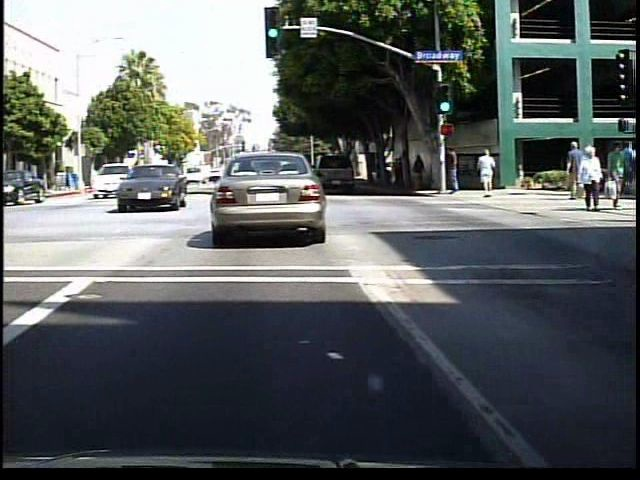person: (578, 144, 610, 211), (607, 143, 632, 209), (568, 140, 592, 204), (475, 146, 499, 201), (448, 143, 468, 201), (415, 152, 432, 191), (399, 155, 413, 190)
